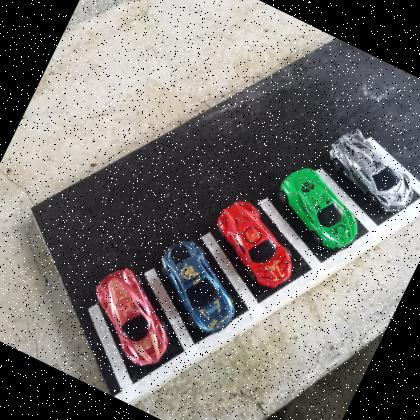Car: (73, 260, 192, 375), (139, 232, 256, 342), (200, 191, 312, 294), (263, 158, 374, 257), (314, 120, 420, 219)
